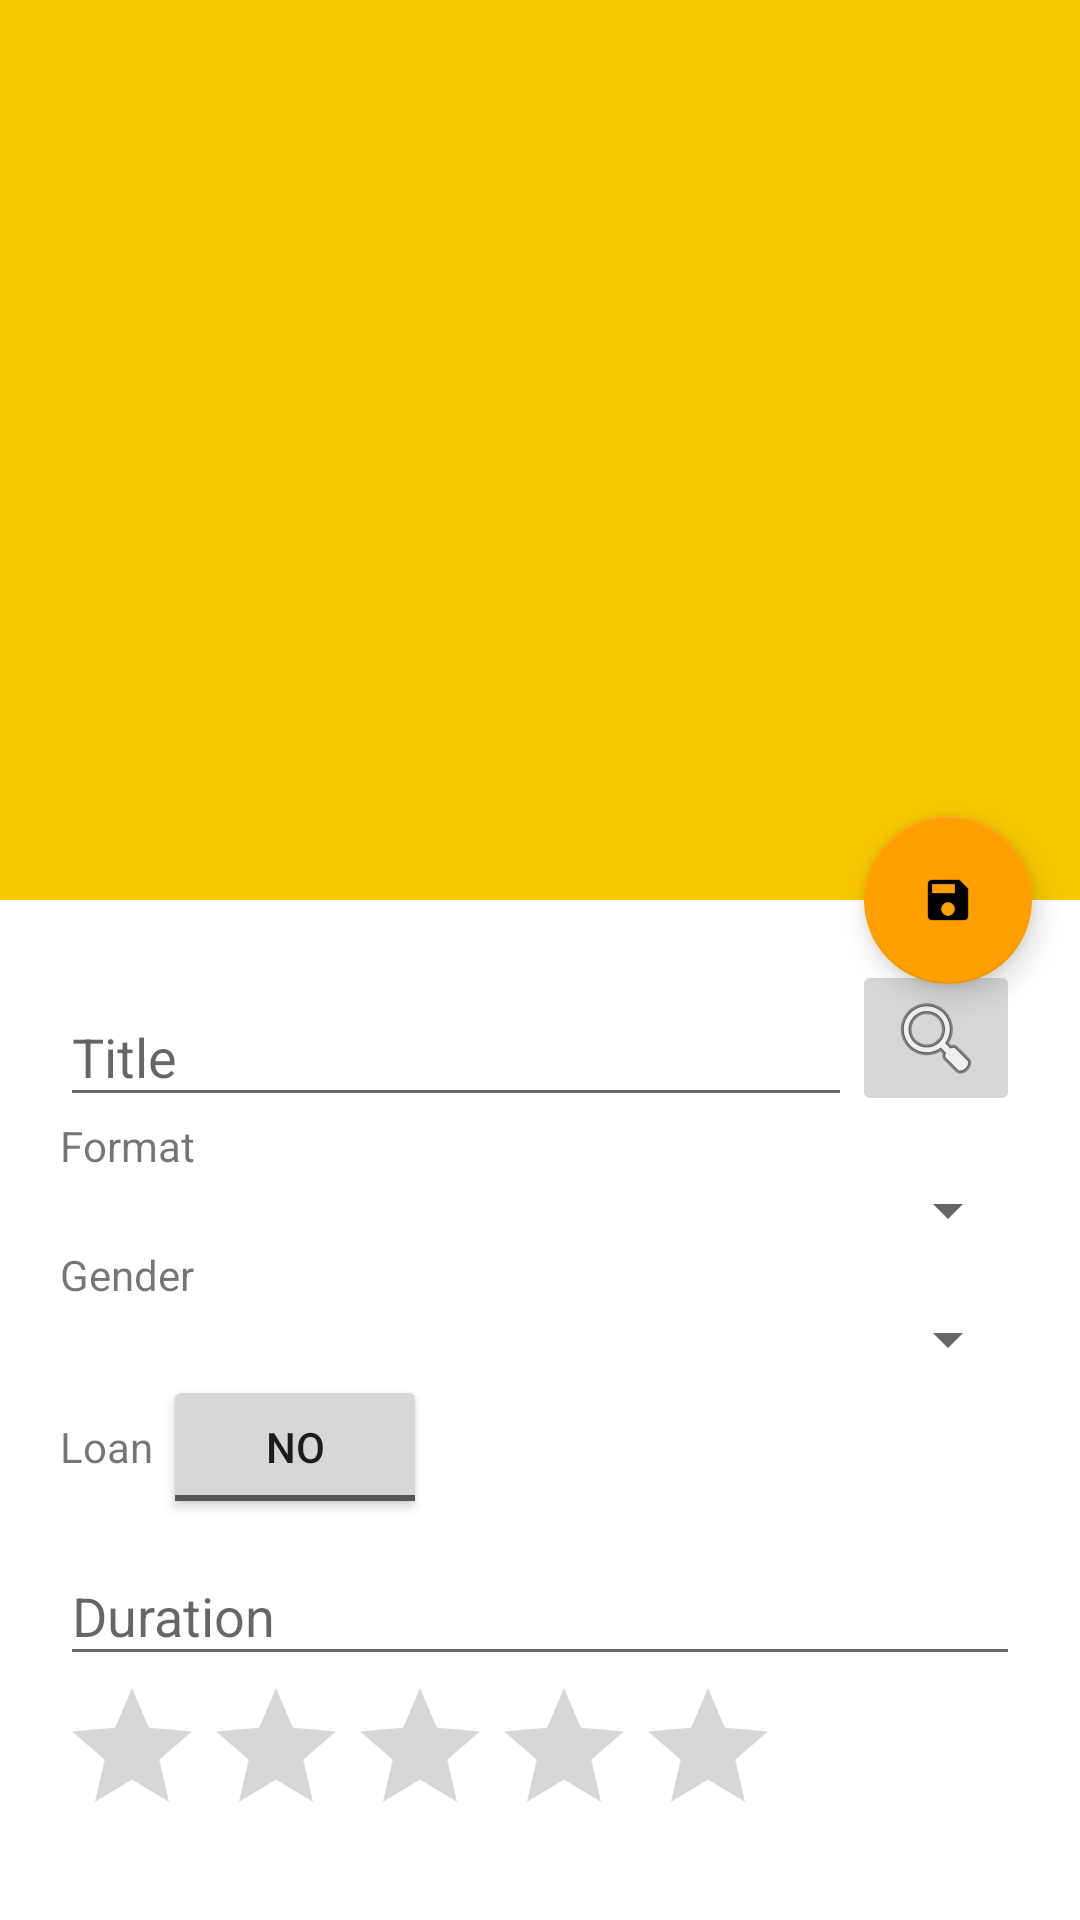

Point at icon controls on the screen. Image size 1080 × 1920, points as point (x, y).
save: point (948, 900)
search: point (940, 1029)
